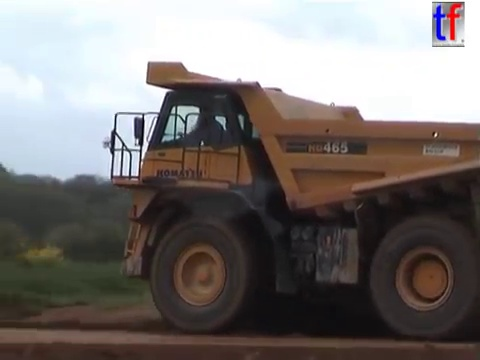truck: (99, 57, 480, 343)
